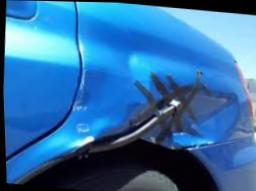Fender: (112, 50, 252, 150)
